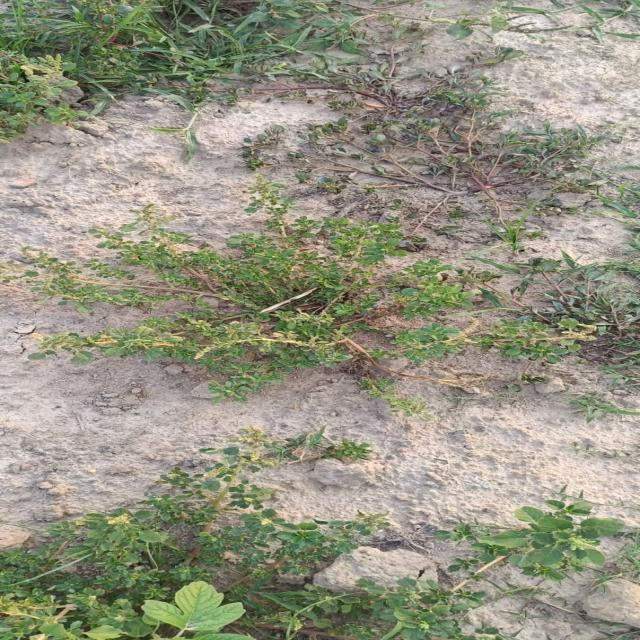plant: (16, 182, 595, 400)
